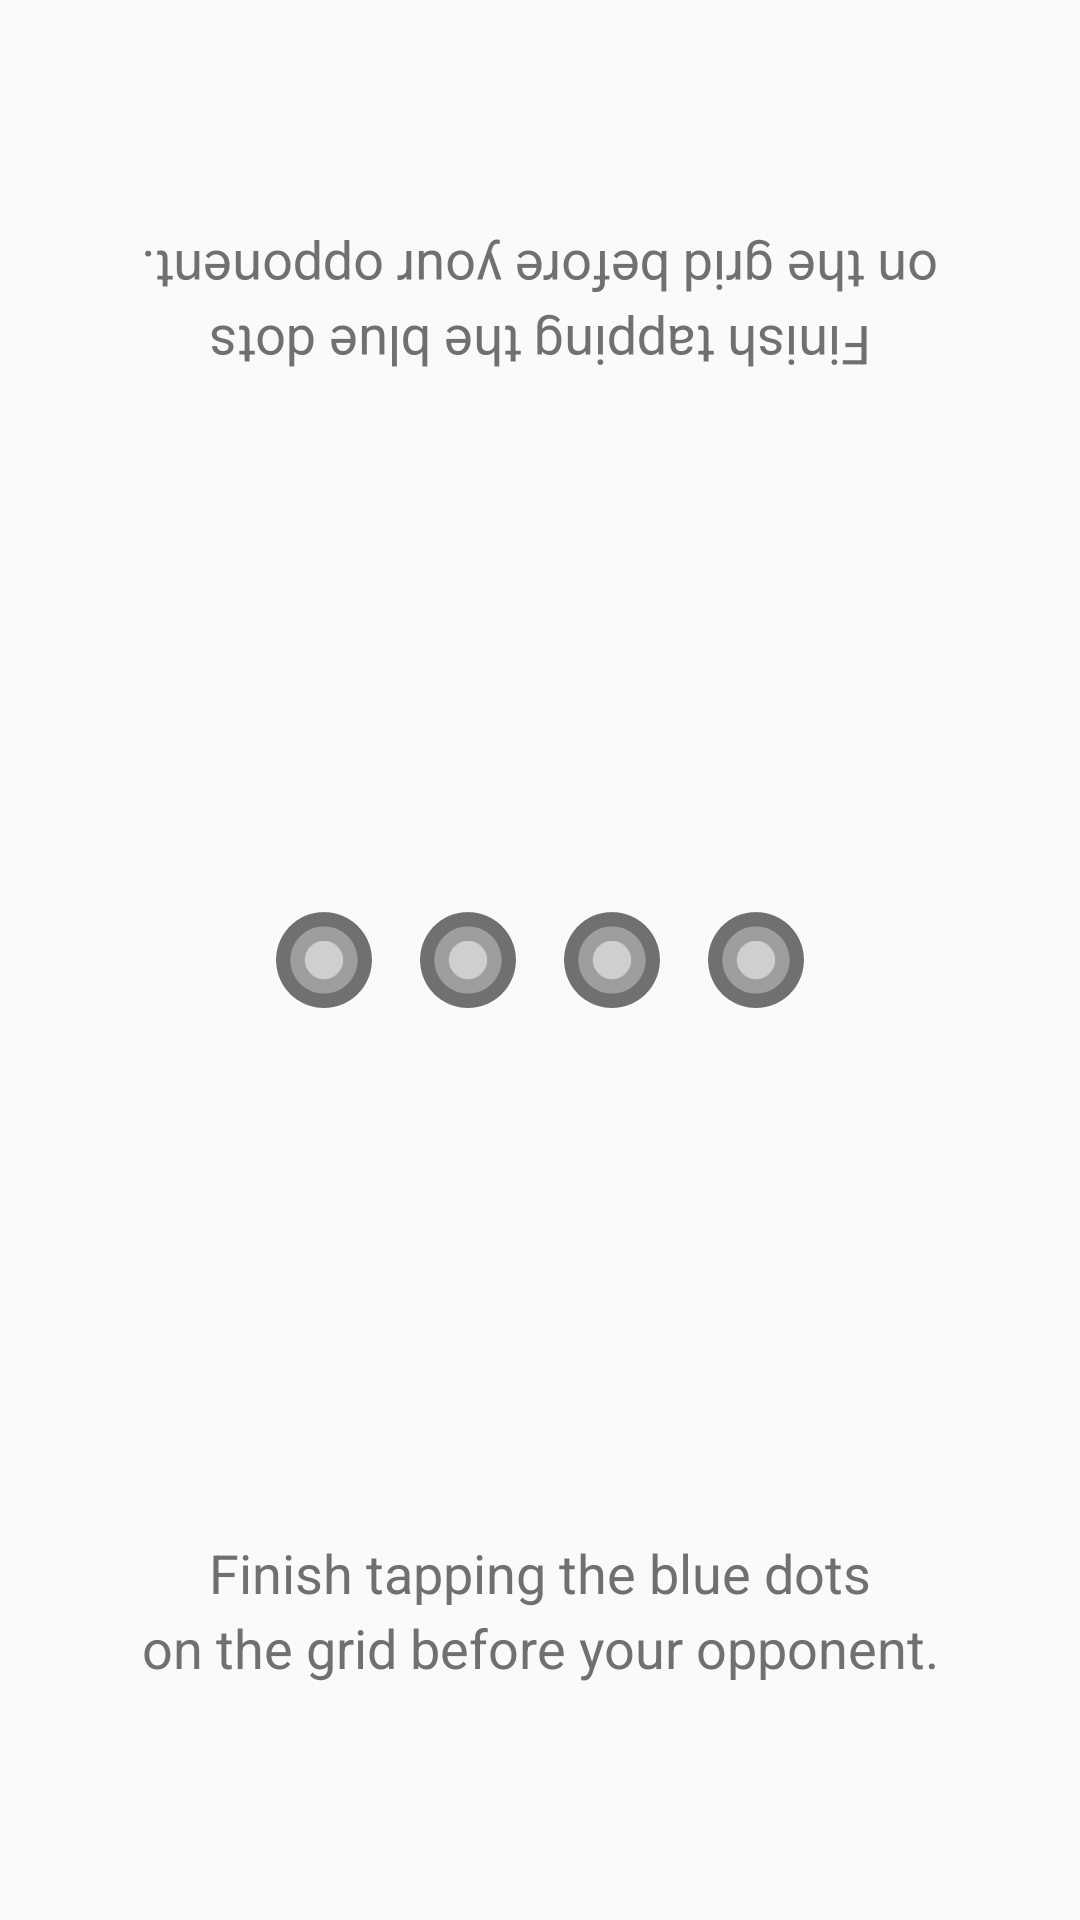

Icon click points for this 1080px×1920px phone screenshot, format [x,y]:
dot sprite: [324,960], [468,960], [612,960], [756,960]
